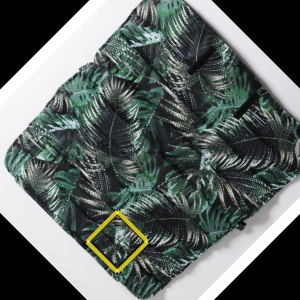square: (84, 207, 151, 274)
